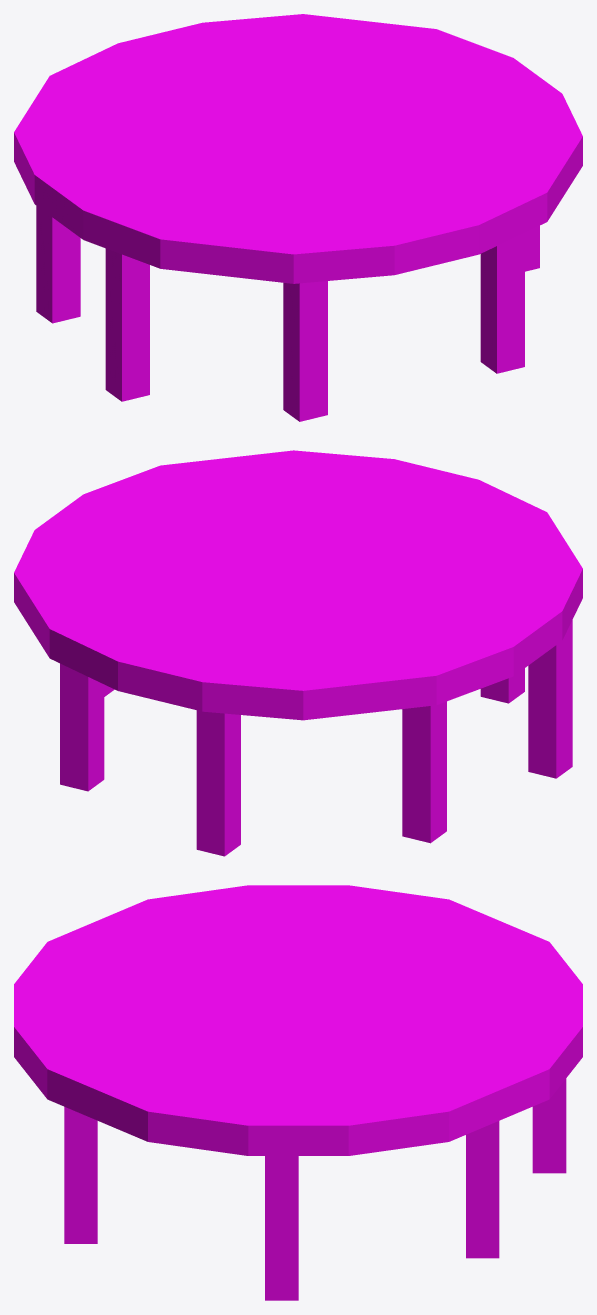
The model's file is bigroundtable.obj.
The picture shows the model from 3 angles, top to bottom: view 1: azimuth 30°, elevation 25°; view 2: azimuth 150°, elevation 25°; view 3: azimuth 270°, elevation 25°; orthographic projection. The views are drawn at different scales.
Parts seen in each view (by area): view 1: bigroundtable_back; view 2: bigroundtable_back; view 3: bigroundtable_back.
Part boxes in pixels (bbox=[...]): bigroundtable_back: bbox=[14, 14, 582, 421]; bigroundtable_back: bbox=[14, 450, 582, 856]; bigroundtable_back: bbox=[14, 885, 582, 1300].
Bounding box in the file's own units: 2.72 × 0.96 × 2.72.
